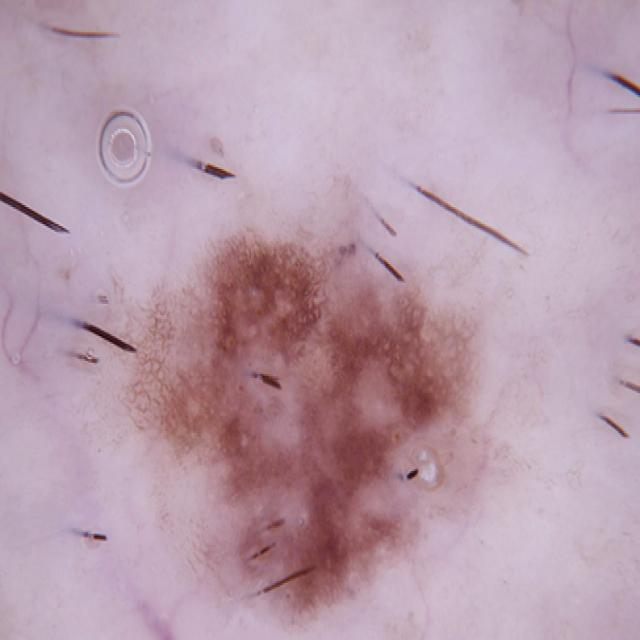Keratosis: (108, 184, 548, 640)
